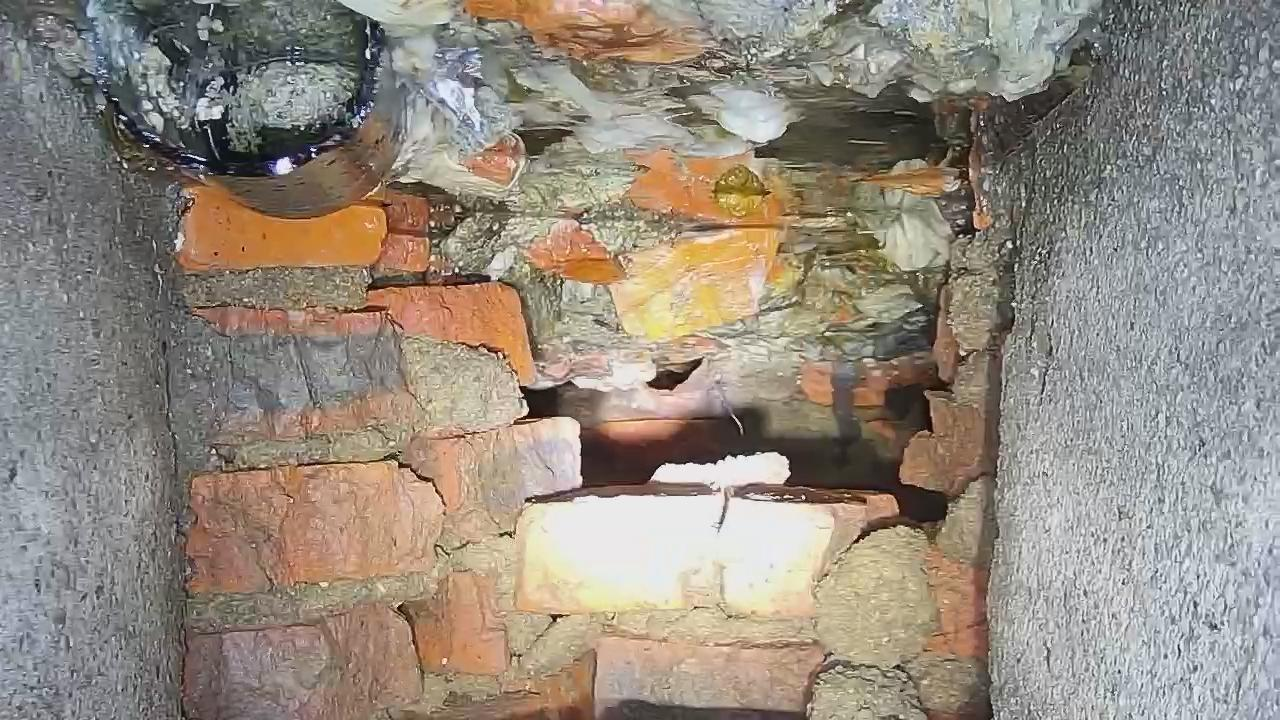CJ: (39, 1, 1101, 372)
CQBG: (171, 152, 1009, 720)
